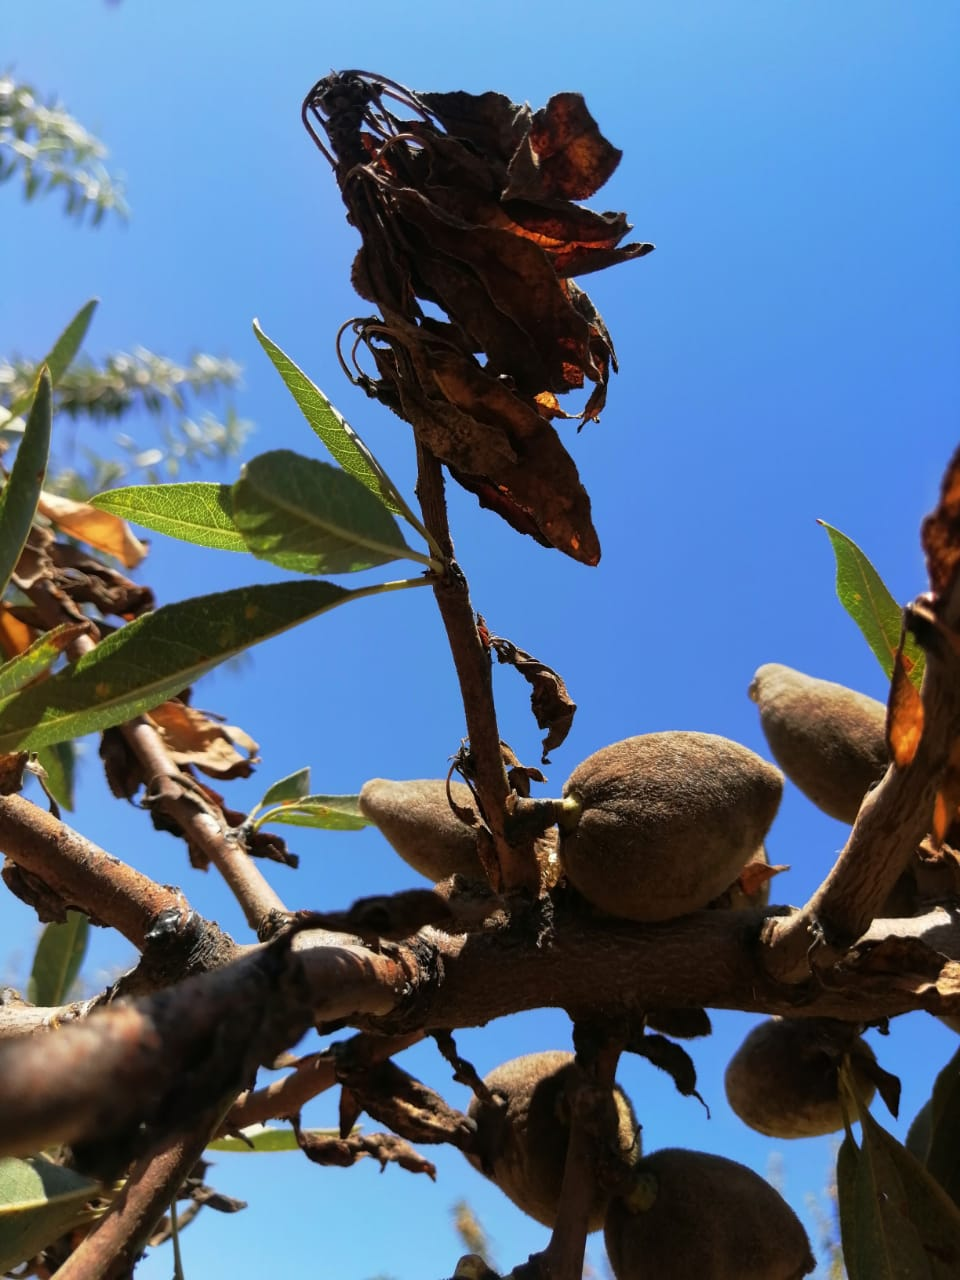scolytes: (301, 72, 651, 764)
